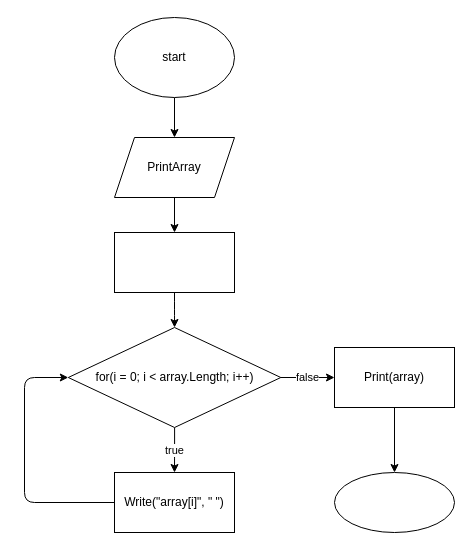
This 472x550 diagram has some shape labels left out. The box of each missing label's shape, as (x1, y1, x2, y2) in pixels:
end: (334, 472, 454, 532)
string array[]: (114, 232, 234, 292)
